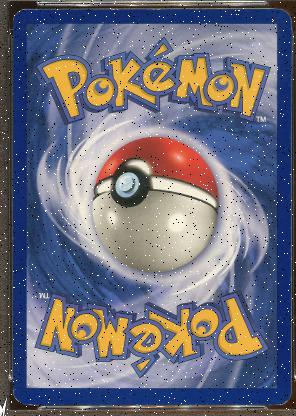Card: (10, 6, 290, 406)
Corner Wear: (12, 386, 42, 405), (266, 400, 287, 406)
Edge Wear: (288, 249, 290, 290), (98, 8, 119, 10), (191, 8, 210, 10), (150, 8, 163, 10)
